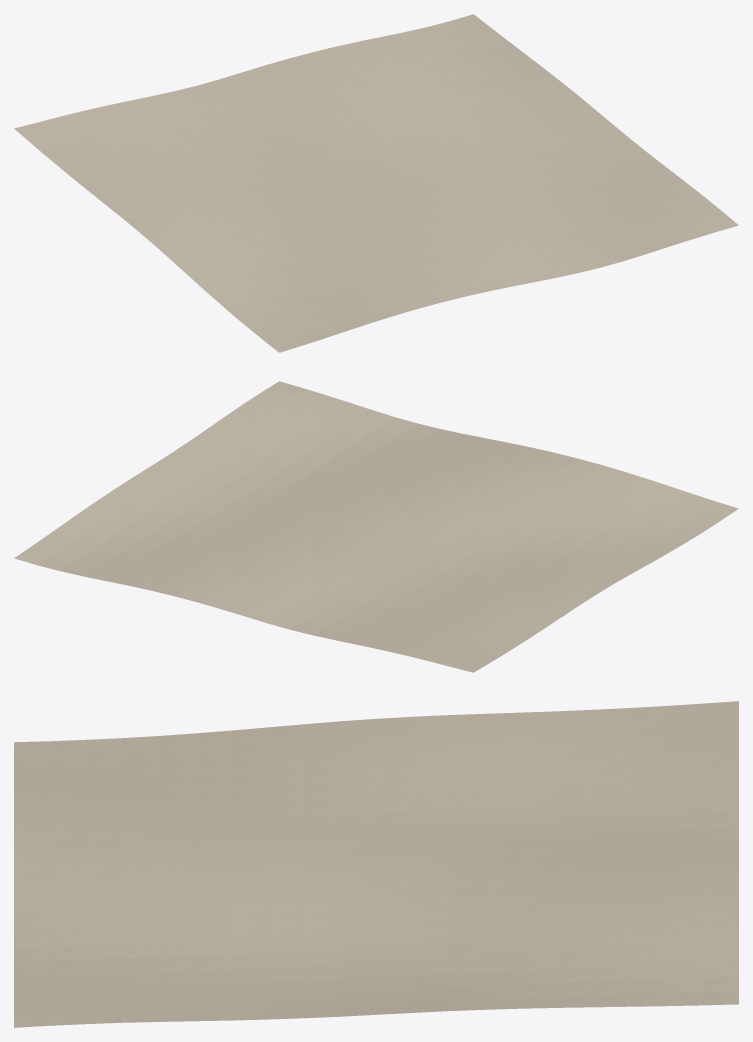
The model's file is bolak_11_-8.glb.
3 renders of one model, top to bottom at view 1: azimuth 30°, elevation 25°; view 2: azimuth 150°, elevation 25°; view 3: azimuth 270°, elevation 25°, orthographic. The views are drawn at different scales.
Visible parts, largest first — view 1: Yer_Tuproq-col; view 2: Yer_Tuproq-col; view 3: Yer_Tuproq-col.
Part boxes in pixels (x1,y1,x2,y2): Yer_Tuproq-col: (14,14,738,352); Yer_Tuproq-col: (14,381,738,672); Yer_Tuproq-col: (14,701,738,1027).
Size of the model in its own units: 400 by 27.85 by 400.
